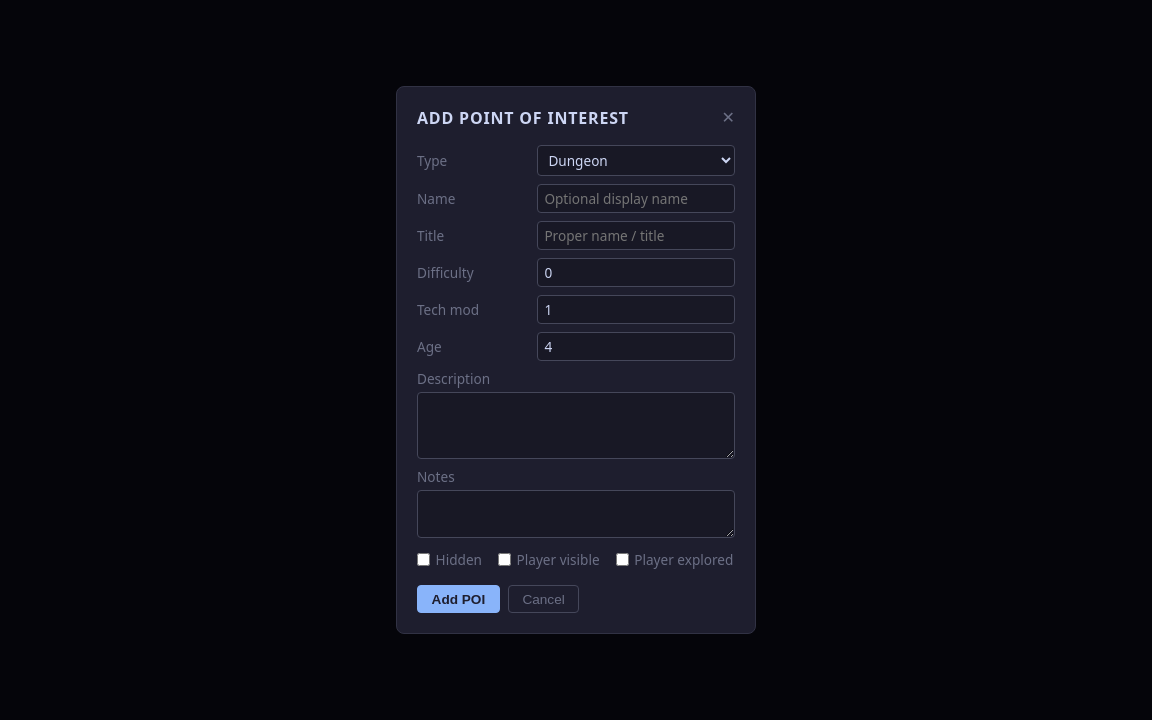
Test: AddPOIModal conditional fields › shows Difficulty but not dungeon fields for ruin
Select "Ruin" in the dropdown: (636,160) [537,145,735,176]
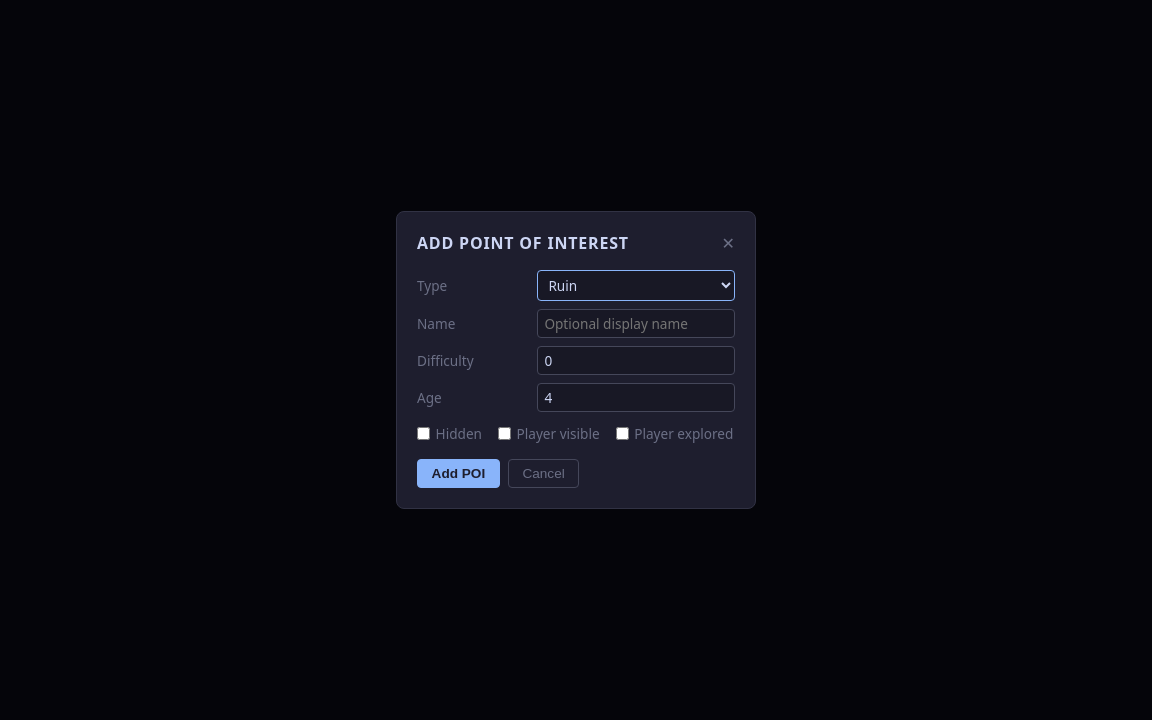
Expected: the text "Title" is gone
Expected: the text "Tech mod" is gone
Expected: the text "Description" is gone
